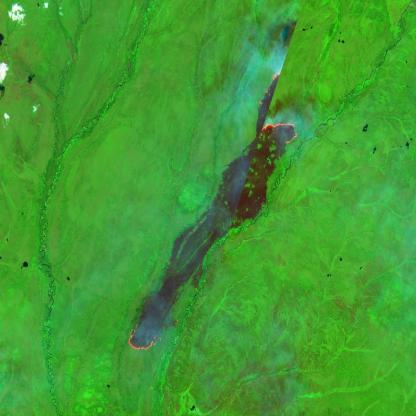fire: (257, 69, 300, 145), (126, 326, 158, 352)
